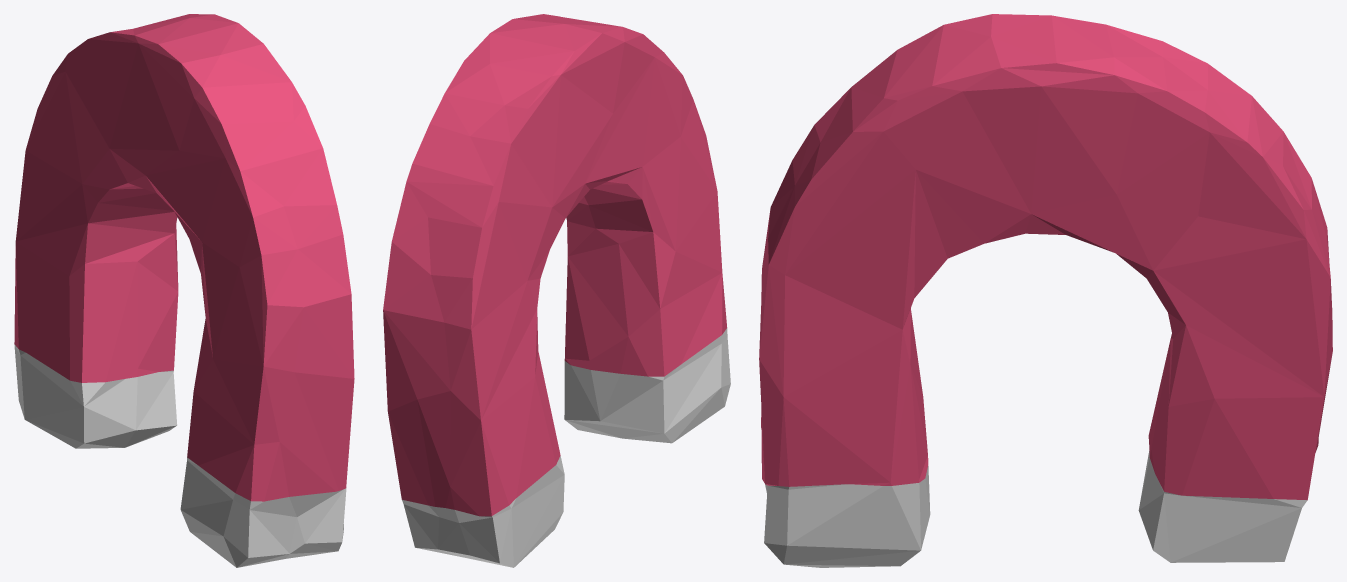
The model's file is Magnet.fbx.
3 views of the same model, side by side, from view 1: azimuth 30°, elevation 25°; view 2: azimuth 150°, elevation 25°; view 3: azimuth 270°, elevation 25° (orthographic). The views are drawn at different scales.
Visible parts, largest first — view 1: Cylinder.011; view 2: Cylinder.011; view 3: Cylinder.011.
Boxes of the visible parts, bbox=[...] form: Cylinder.011: bbox=[14, 14, 354, 567]; Cylinder.011: bbox=[383, 14, 730, 567]; Cylinder.011: bbox=[759, 14, 1332, 567].
Size of the model in its own units: 0.616 by 2.03 by 2.03.
